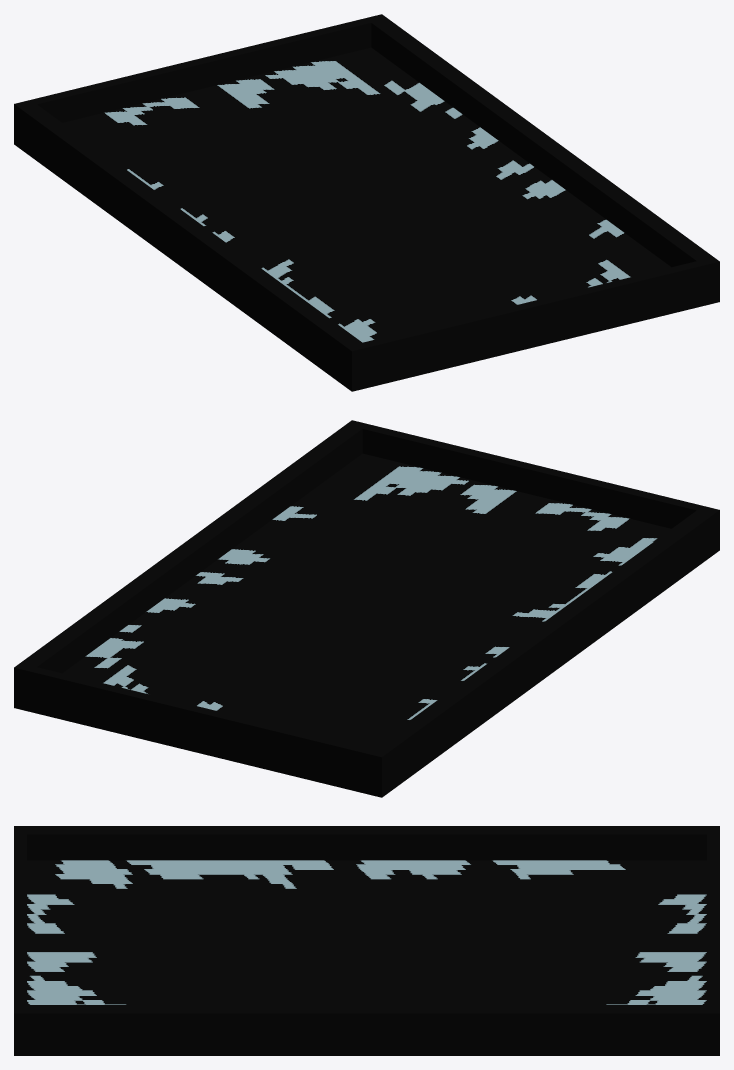
The model's file is pz_window_wooden_broken.obj.
3 renders of one model, top to bottom at view 1: azimuth 30°, elevation 25°; view 2: azimuth 150°, elevation 25°; view 3: azimuth 270°, elevation 25°, orthographic. The views are drawn at different scales.
Visible parts, largest first — view 1: pz_window_wooden_broken; view 2: pz_window_wooden_broken; view 3: pz_window_wooden_broken.
Boxes of the visible parts, x1,y1,x2,y2 form: pz_window_wooden_broken: (14, 14, 719, 391); pz_window_wooden_broken: (14, 420, 719, 797); pz_window_wooden_broken: (14, 826, 719, 1055).
Bounding box in the file's own units: 0.6094 × 0.064 × 0.9696.
Materials: 2 (2 with a texture image).
